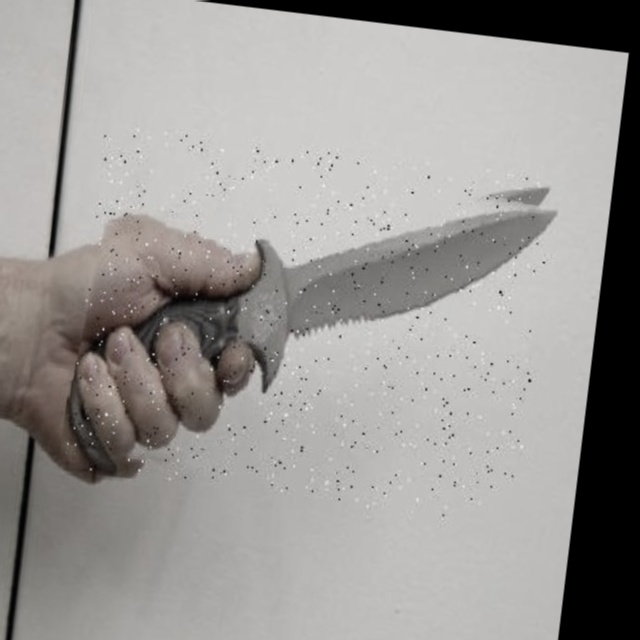Sharp-Object: (63, 123, 555, 524)
